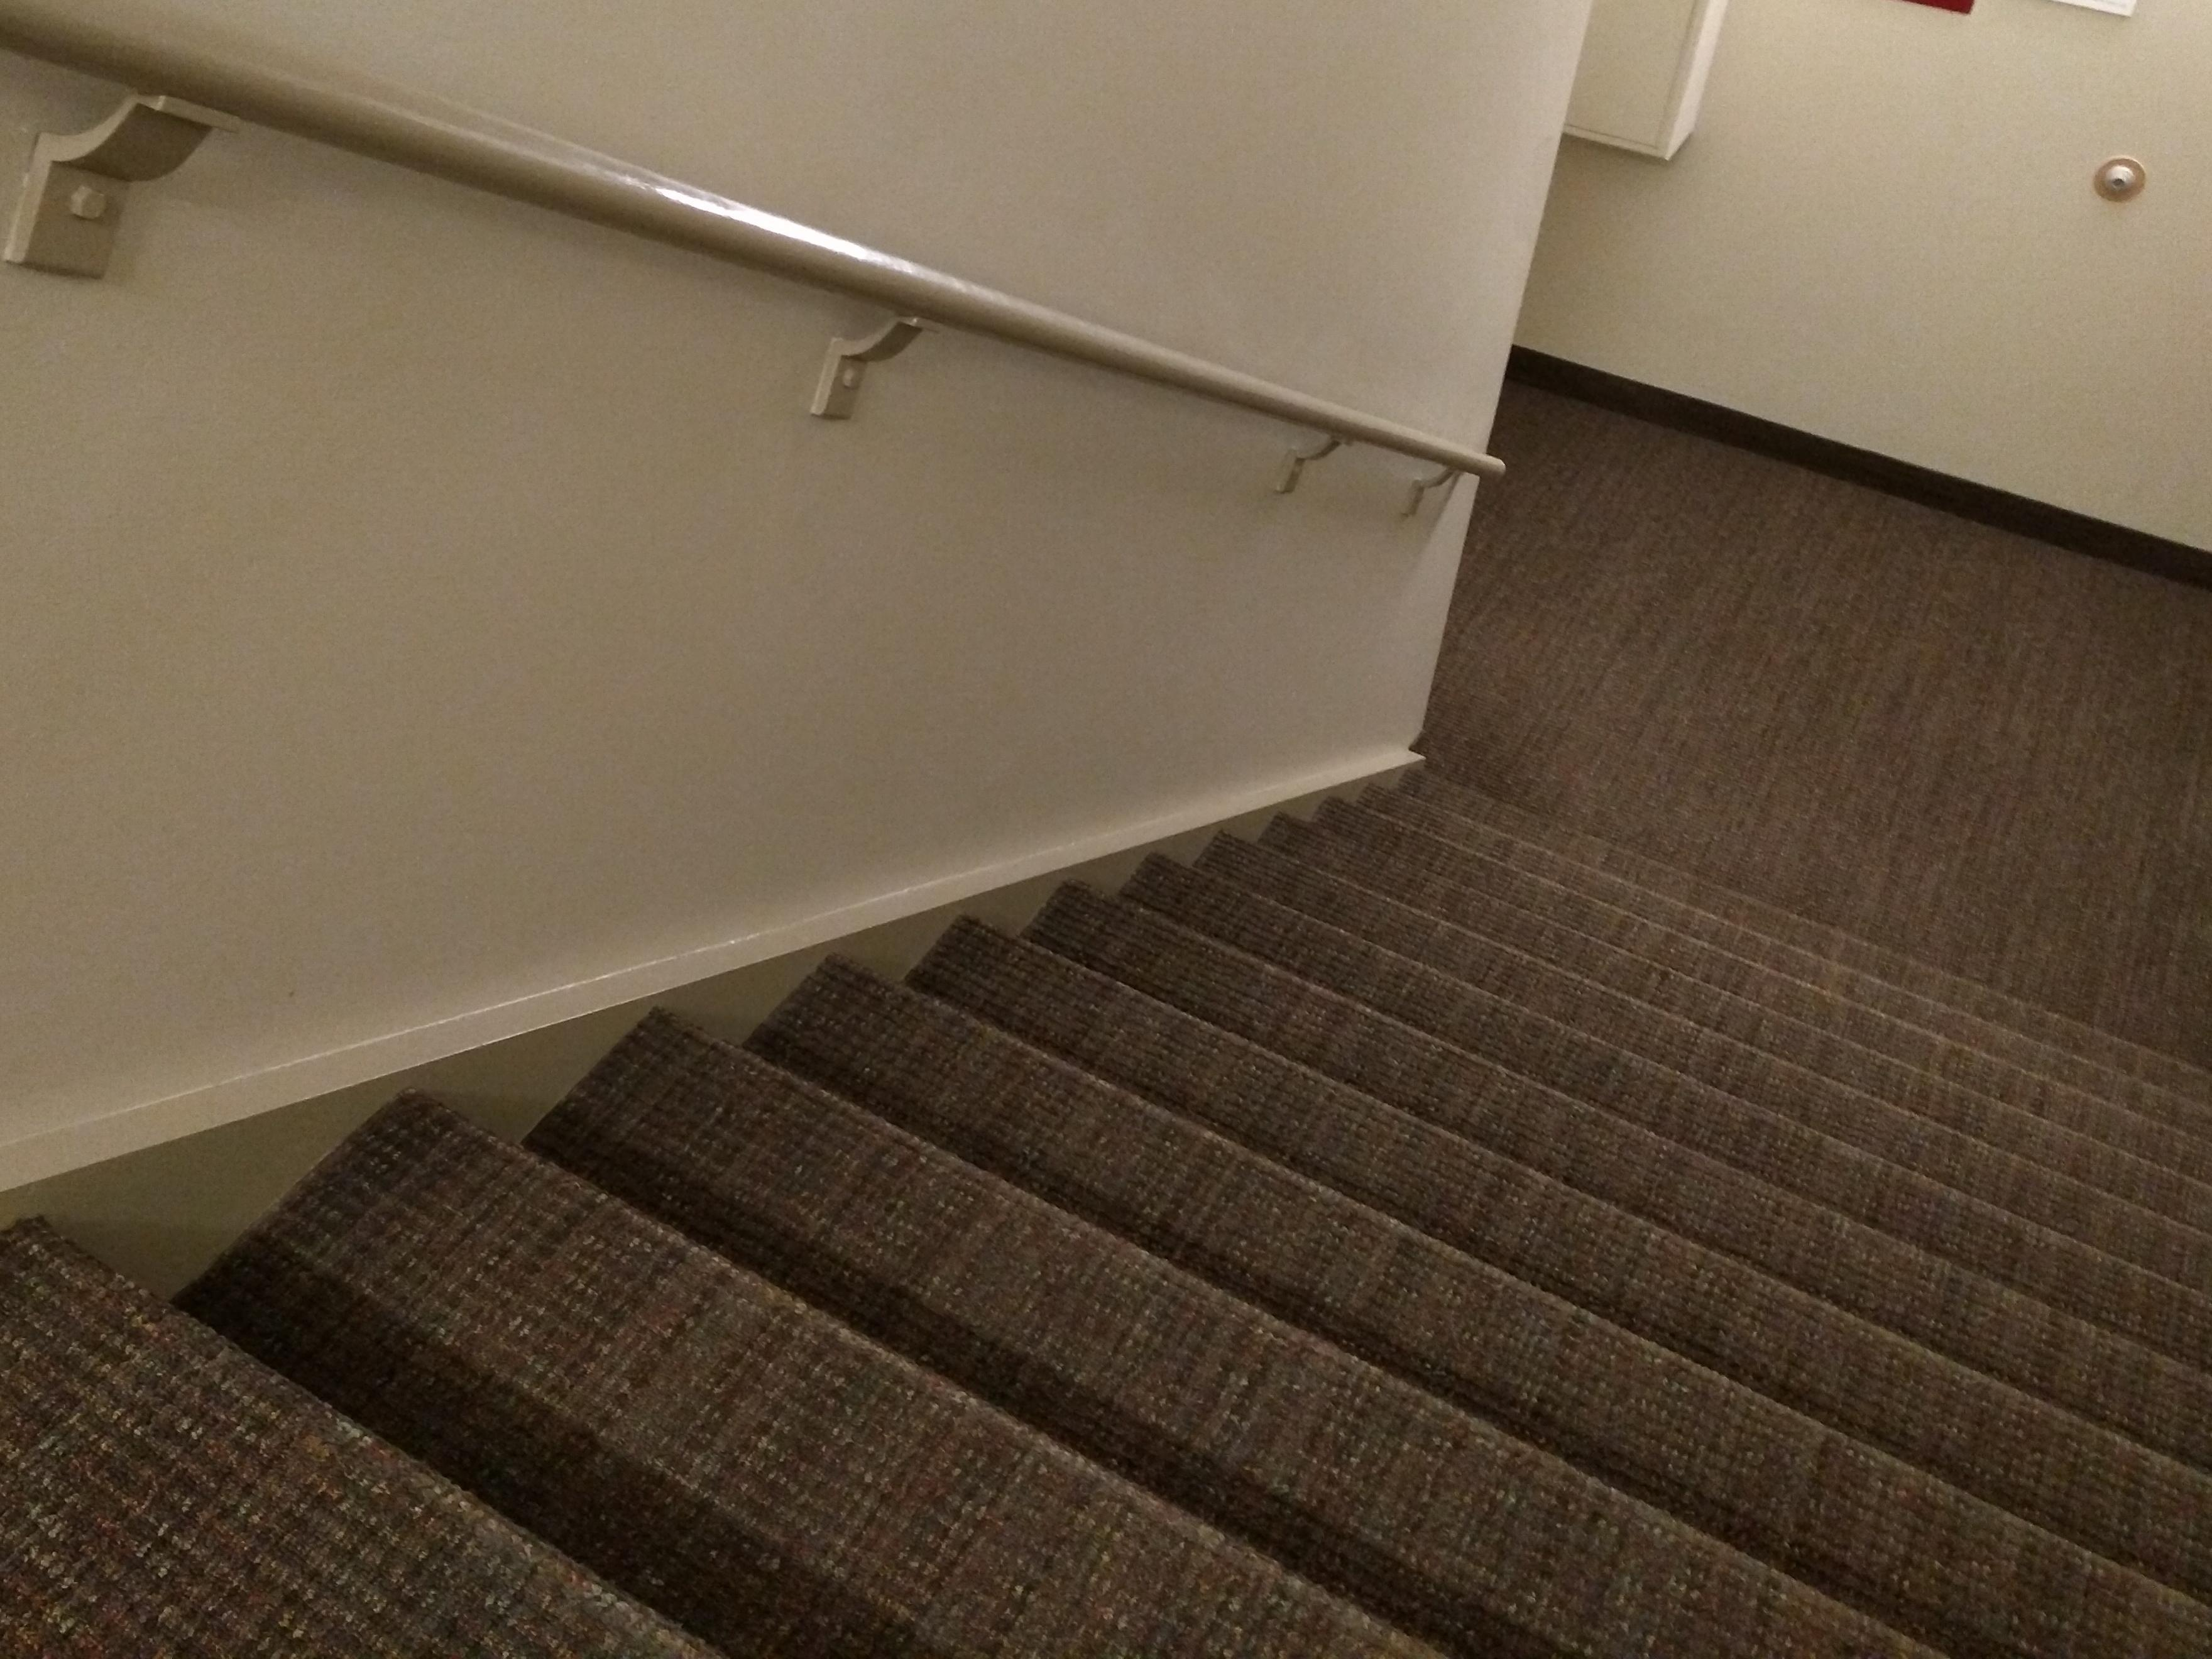stairs_down: (5, 734, 2209, 1659)
